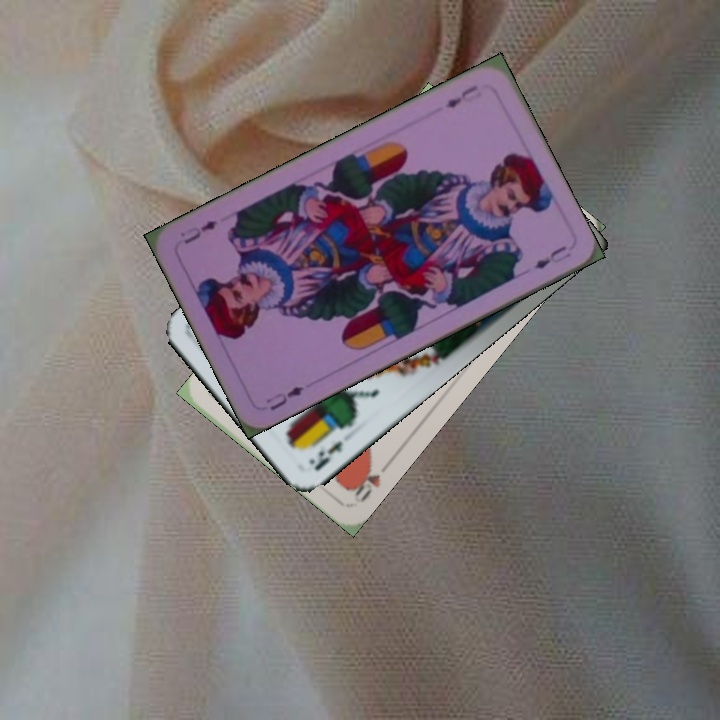EK: (310, 437, 346, 474)
EU: (262, 382, 307, 413), (441, 80, 485, 111)
HO: (347, 456, 394, 506)
